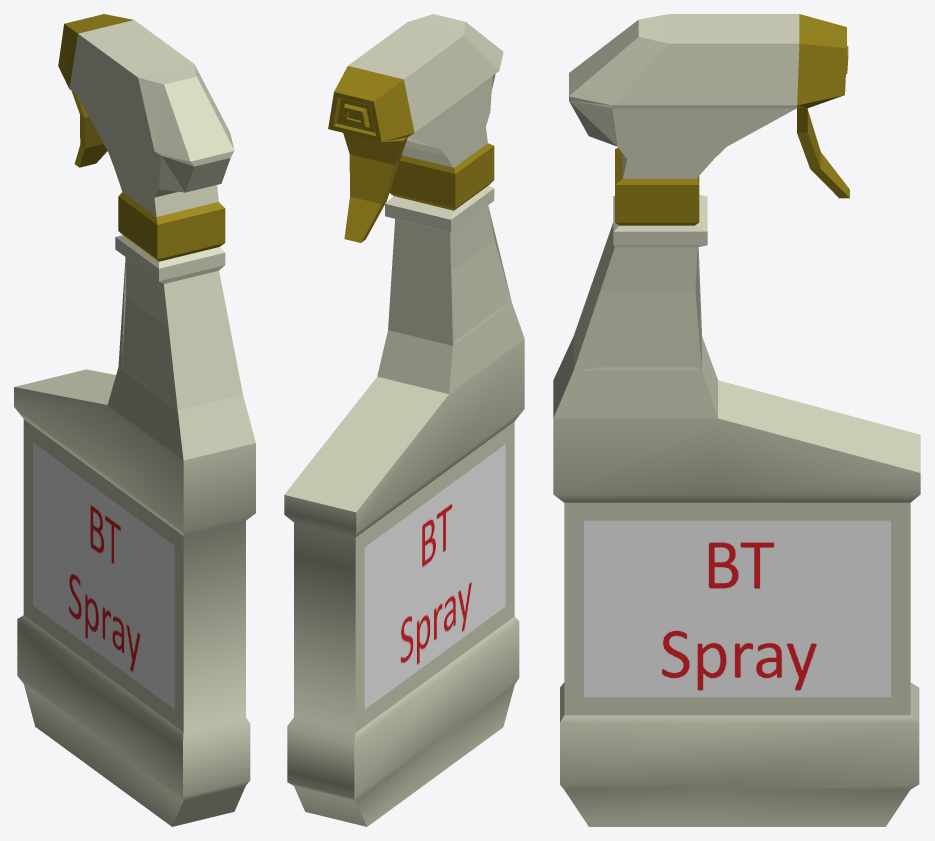
File: BTSpray.fbx
The picture shows the model from 3 angles, left to right: view 1: azimuth 30°, elevation 25°; view 2: azimuth 150°, elevation 25°; view 3: azimuth 270°, elevation 25°; orthographic projection. The views are drawn at different scales.
Parts seen in each view (by area): view 1: Box001; view 2: Box001; view 3: Box001.
Boxes of the visible parts, box(x1,y1,x2,y2) form: Box001: box(14, 14, 255, 826); Box001: box(284, 14, 524, 826); Box001: box(553, 14, 920, 826).
Size of the model in its own units: 62.45 by 568 by 242.
